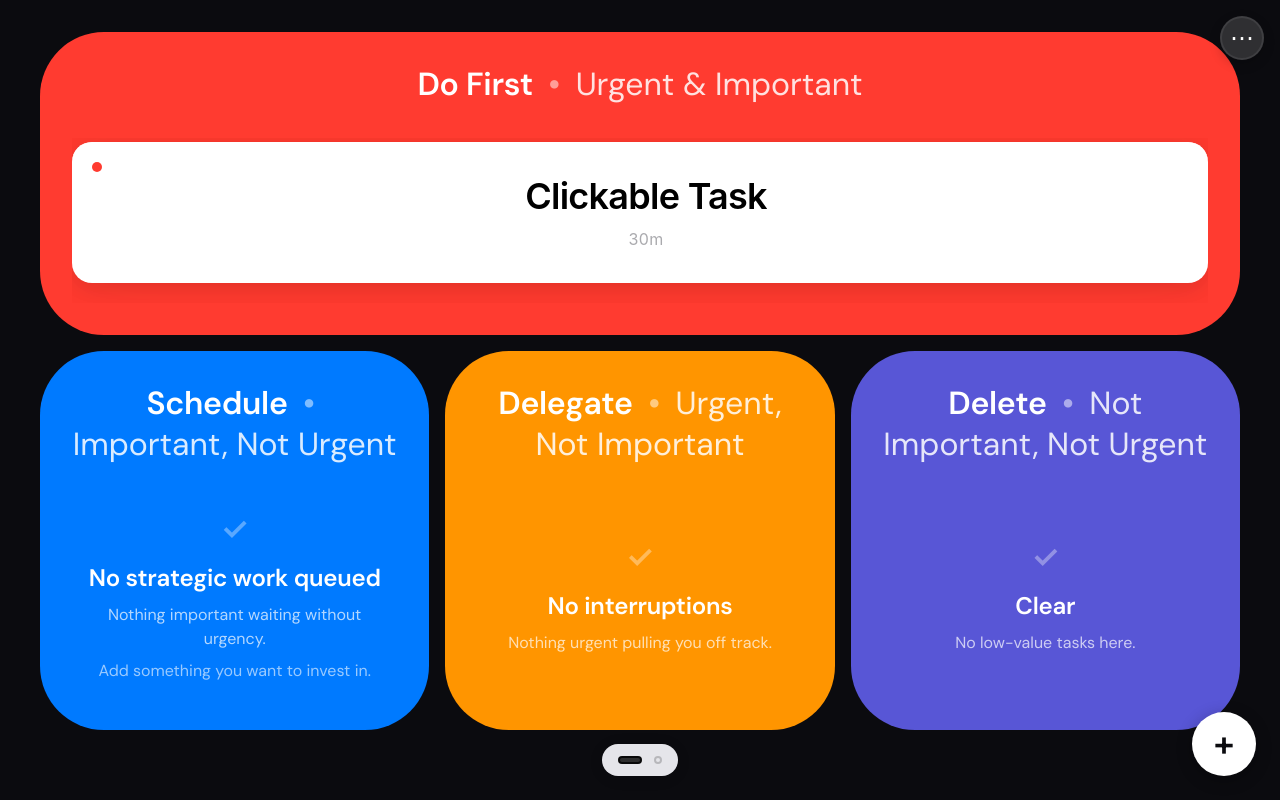
Test case: Right Now View › clicking a task in Right Now opens TaskDetailsModal
The image size is (1280, 800).
Click the button with test id "page-dot-rightNow" at (658,760), box [654, 756, 662, 764]
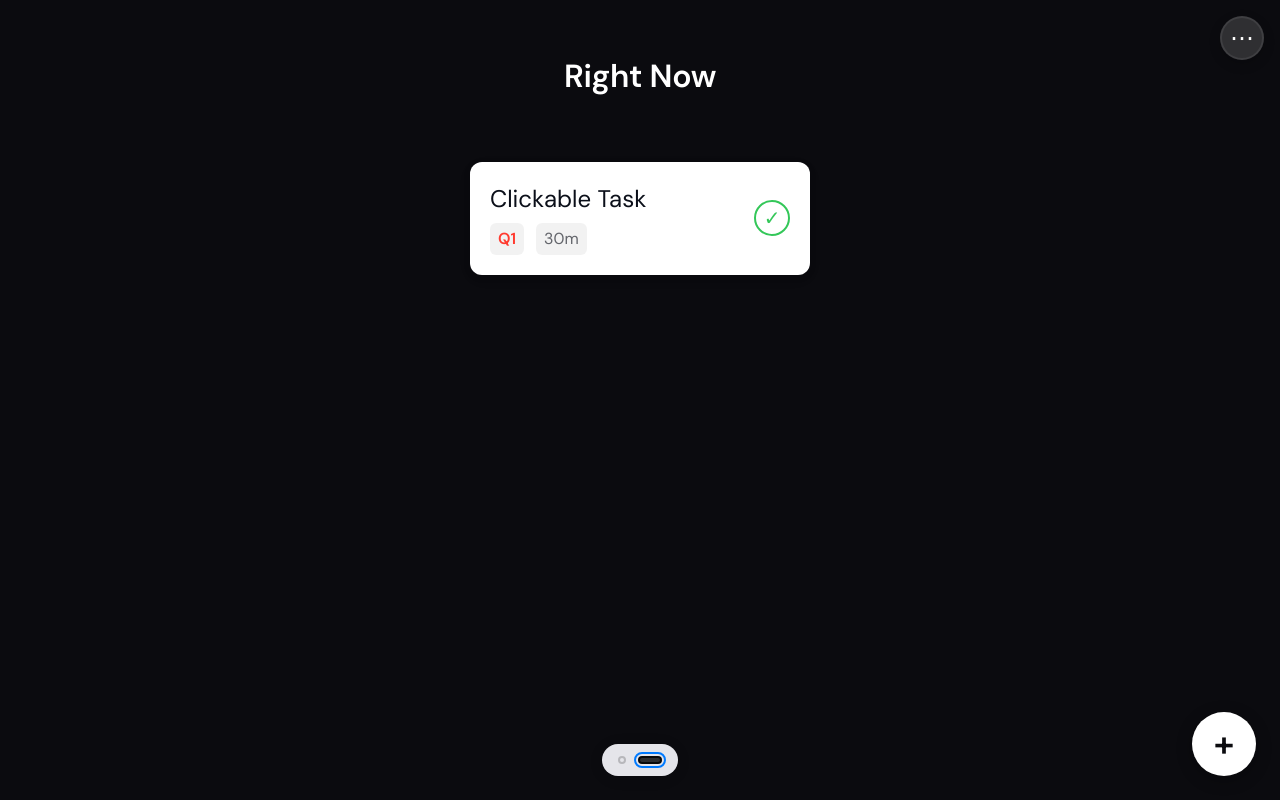
Now the element with test id "right-now-view" is shown, box [446, 32, 834, 299]
Note: Click on task
Click the element with test id "right-now-task-1" at (640,218), box [470, 162, 810, 275]
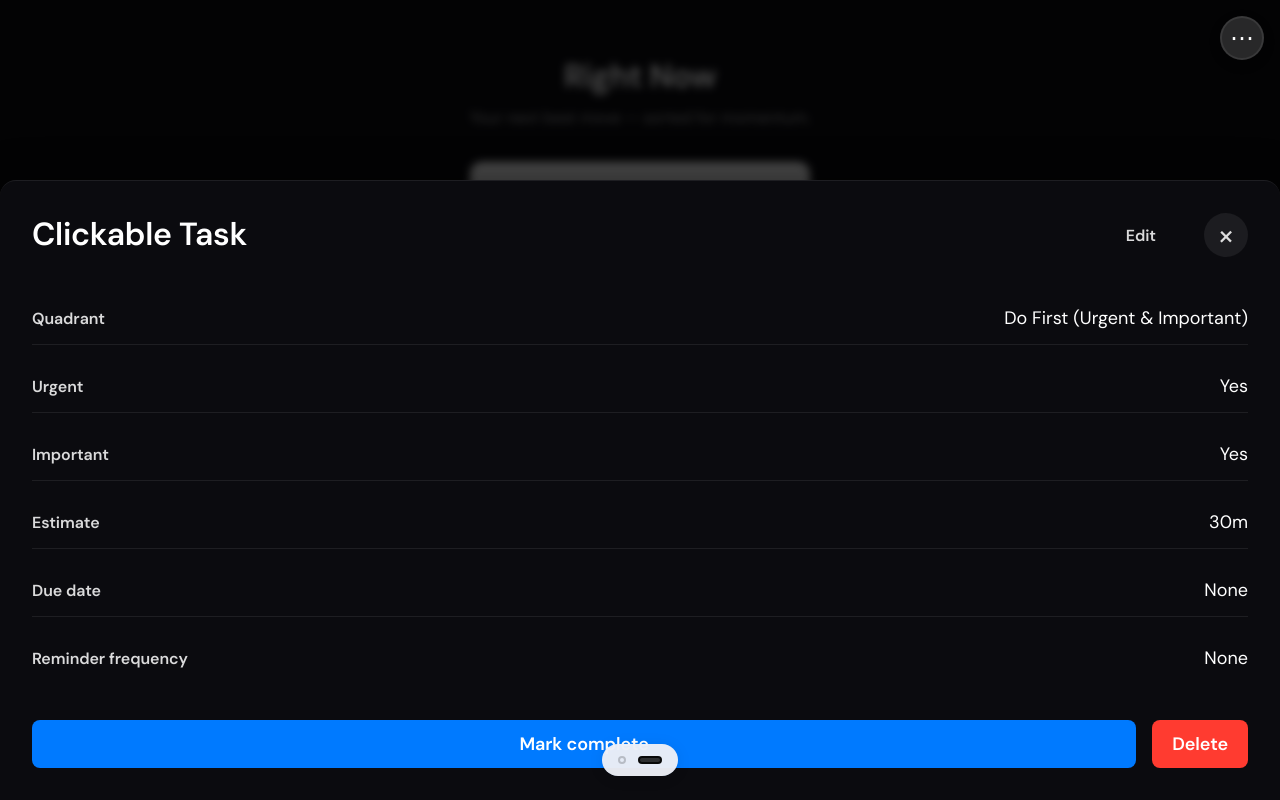
Now the dialog with test id "task-modal" is shown
Now the heading "Clickable Task" is shown, box [32, 213, 247, 255]
